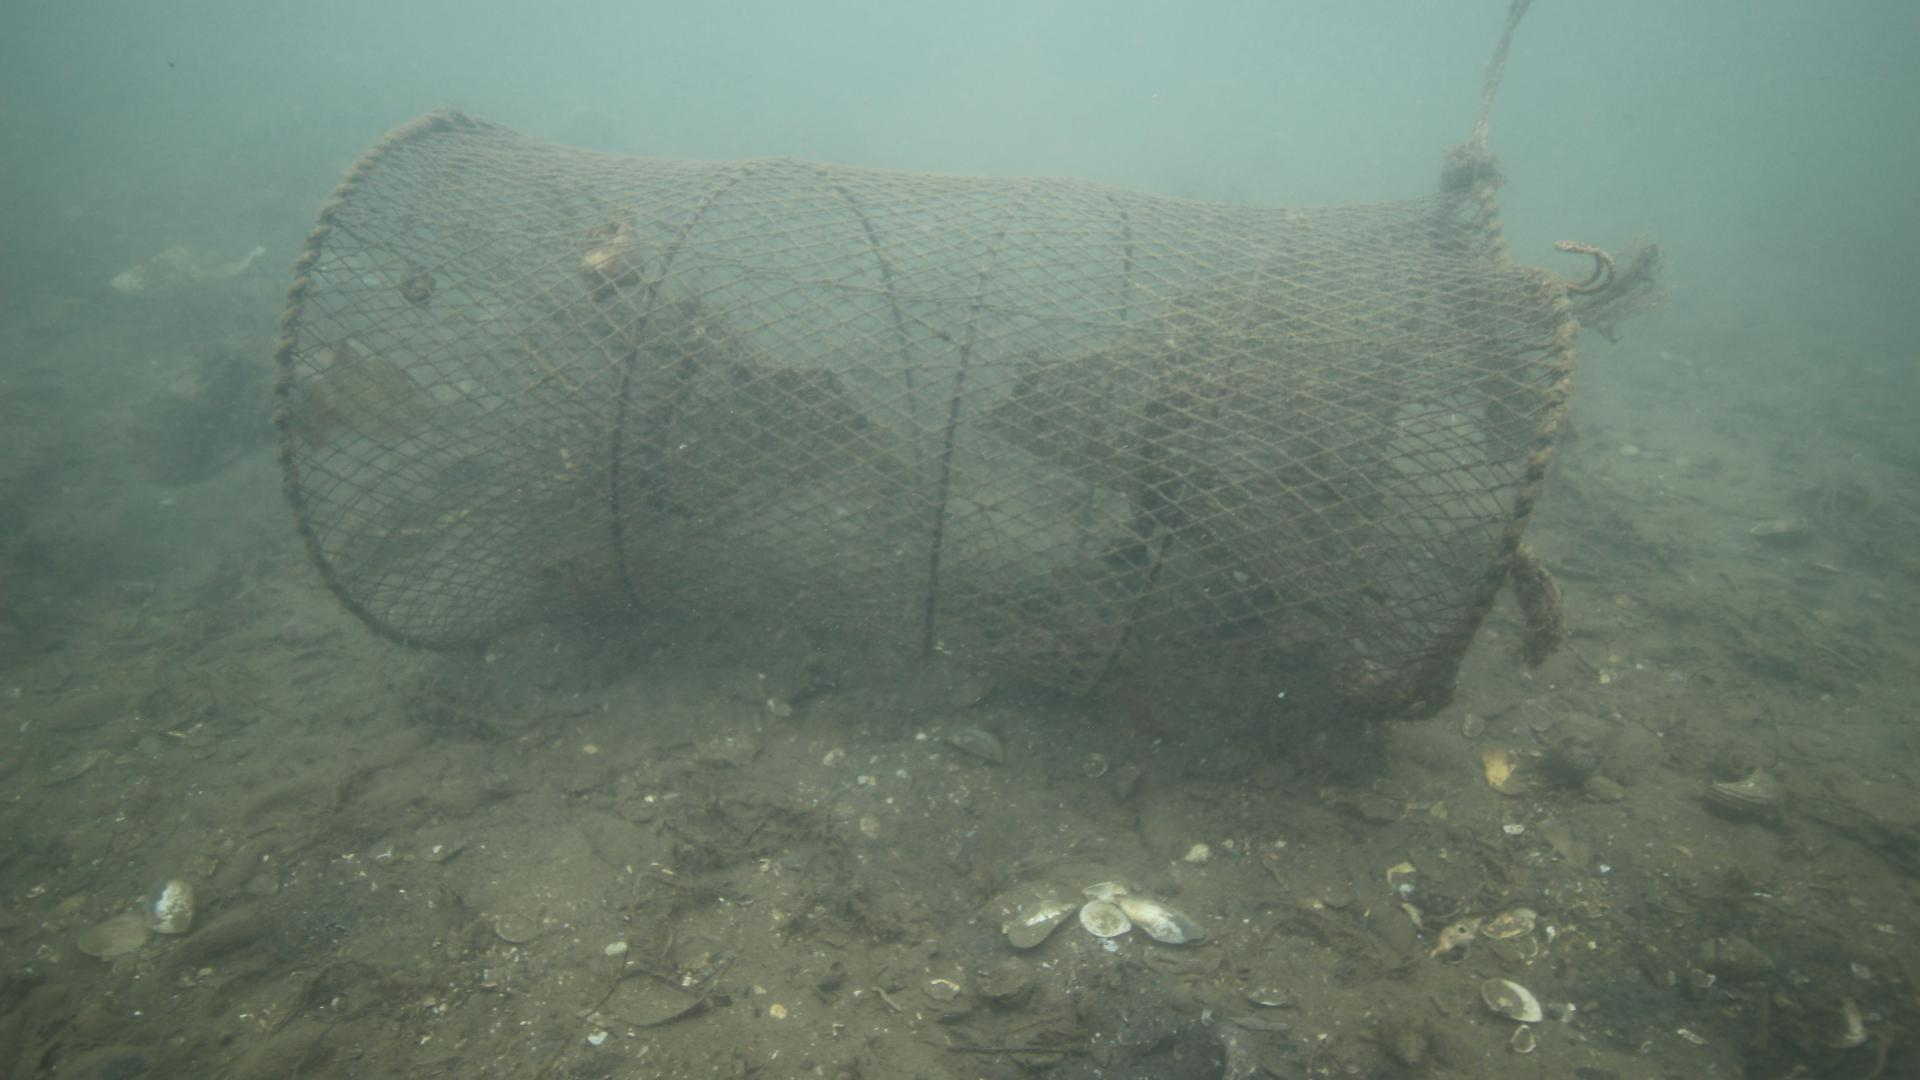bundle of ropes: (1466, 0, 1528, 149)
spring fish trap: (268, 104, 1581, 727)
